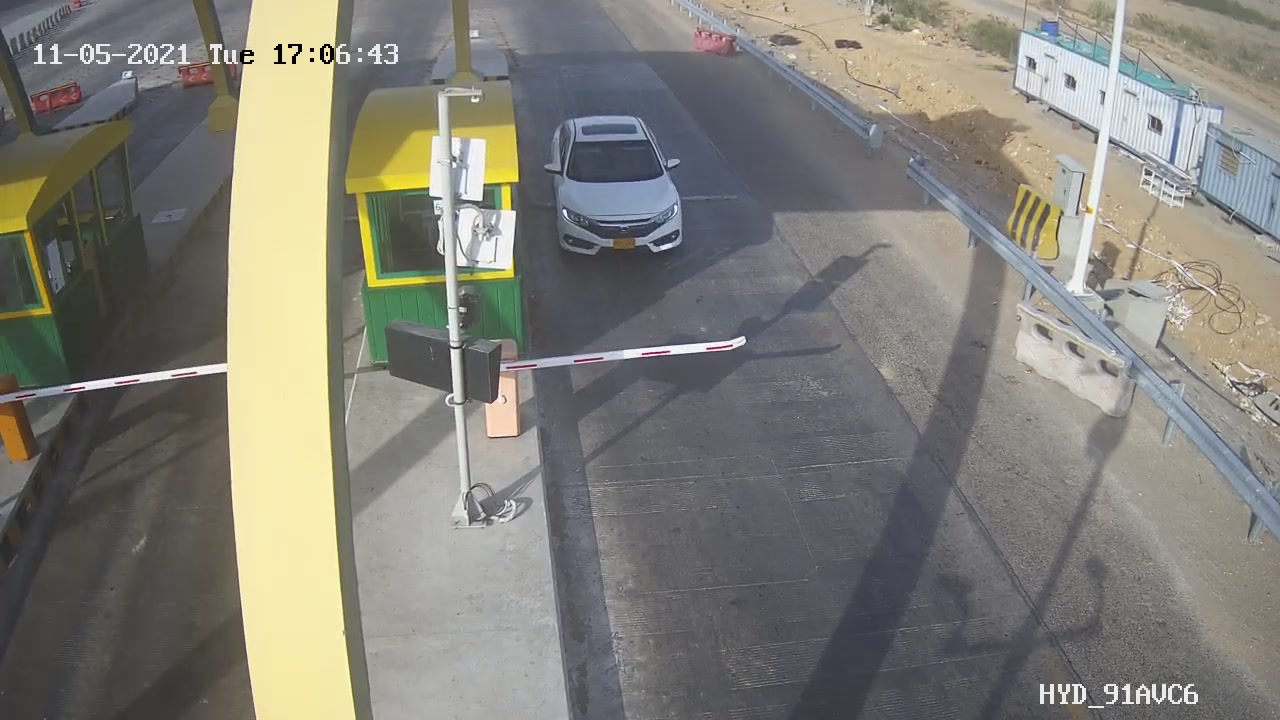F1: (526, 99, 704, 279)
